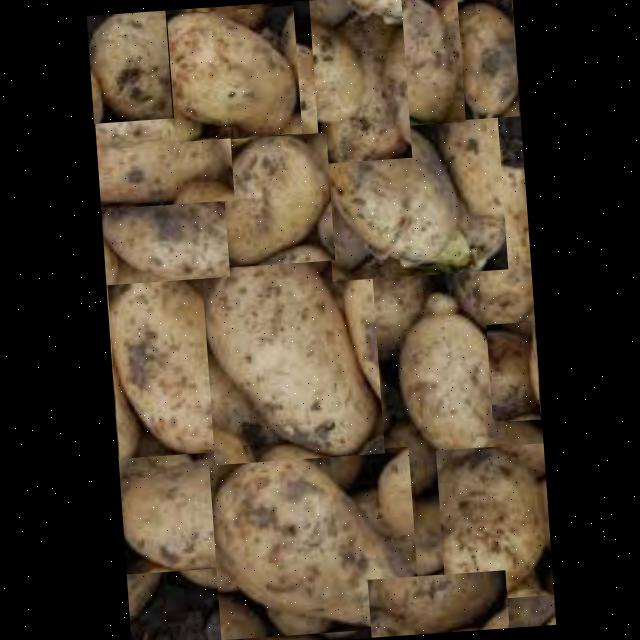Diseased-fungal potato: (198, 240, 384, 464), (208, 446, 420, 640), (320, 113, 507, 281), (105, 262, 240, 464), (152, 6, 301, 142), (388, 287, 496, 464), (434, 443, 552, 602), (205, 132, 334, 268), (434, 161, 534, 334), (308, 0, 411, 163), (117, 450, 247, 574), (98, 178, 229, 284), (94, 114, 234, 209), (250, 37, 366, 146), (371, 0, 464, 127), (86, 10, 172, 123), (366, 570, 508, 637), (440, 0, 518, 121), (484, 321, 540, 422)
